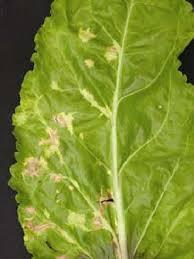Bok-Choy-Diseased: (10, 1, 194, 259)
